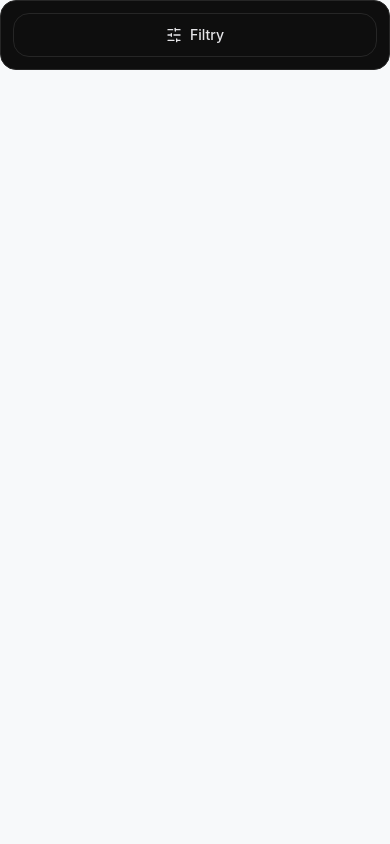
Test: WorkspaceFilters › trigger otwiera pola w overlayu i nie dubluje ich w DOM
This screenshot has width=390, height=844.
Click the button "Filtry": (195, 35) top-left (13, 13), bottom-right (377, 57)
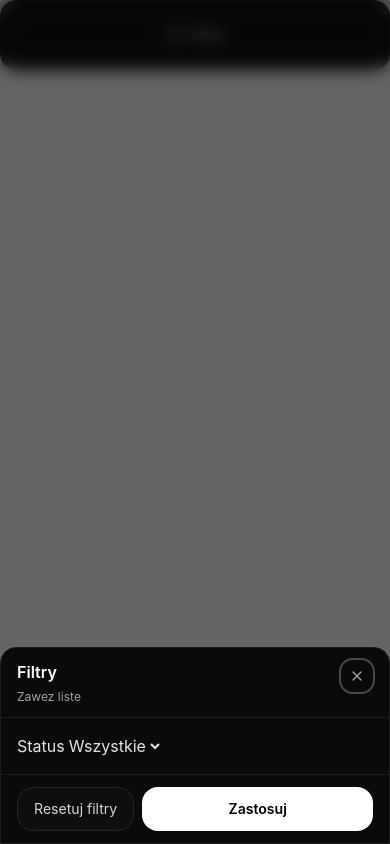
Check: the dialog "Filtry" is shown, box top-left (0, 647), bottom-right (389, 843)
